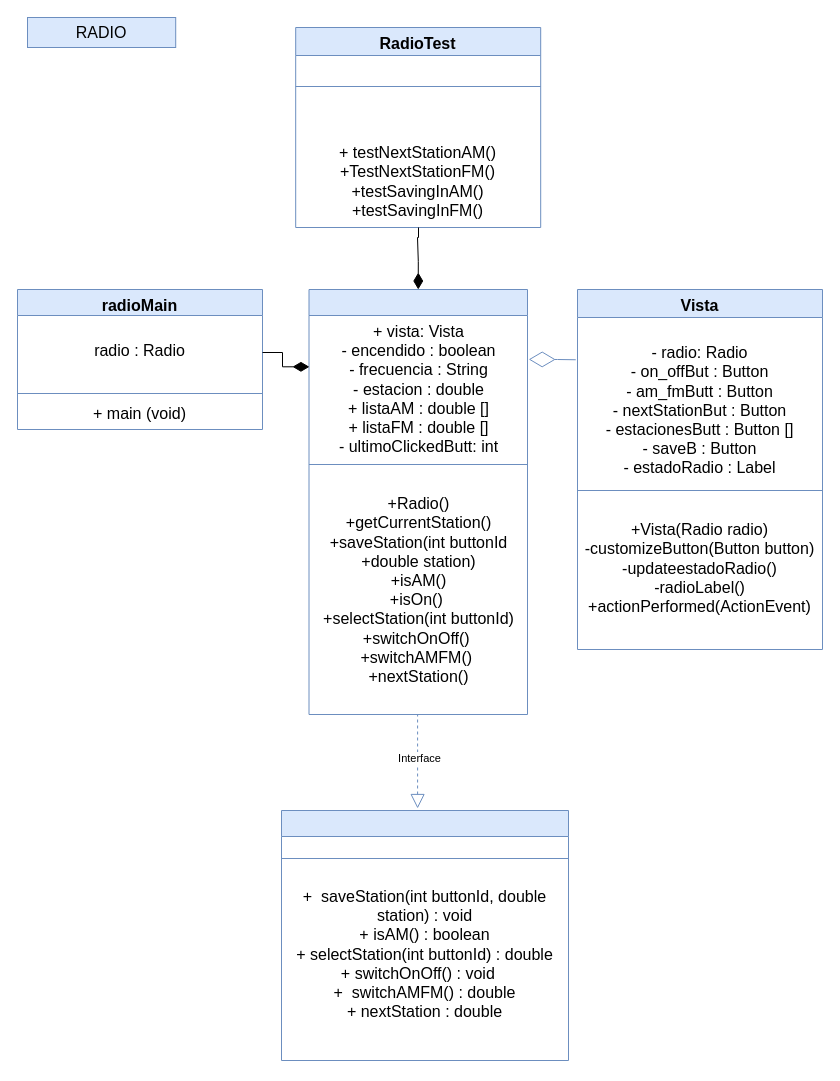
Image size: 840x1081. Some labels were removed from this diagram. The box of each missing label's shape, as (x1, y1, x2, y2) in pixels:
IRadio: (280, 810, 568, 1060)
Radio Implements IRadio: (308, 288, 528, 714)
